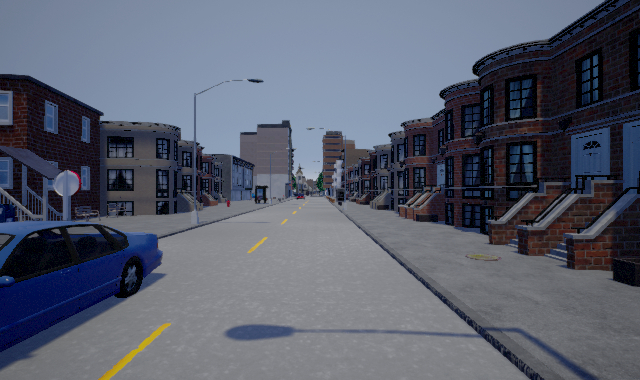vehicle: (1, 221, 163, 351)
